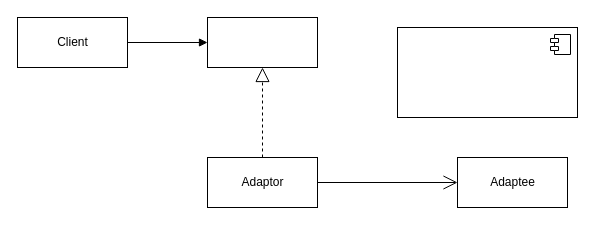
This 596x225 diagram has some shape labels left out. Each missing label, with the centre of its shape:
"«interface» Target" belongs at (x=262, y=42).
"对象适配器，继承借口， 关联实现" belongs at (x=487, y=72).
